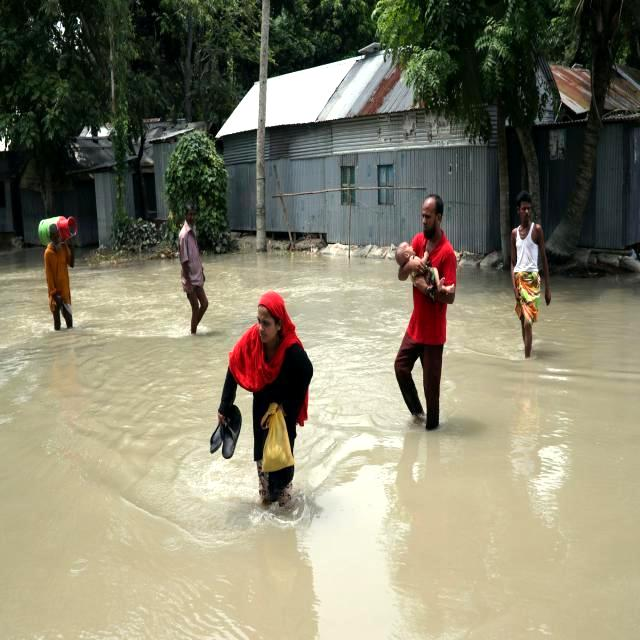civilian: (200, 293, 352, 552), (375, 167, 476, 457), (499, 181, 564, 387), (154, 185, 219, 358), (21, 201, 93, 339), (387, 232, 461, 302)
